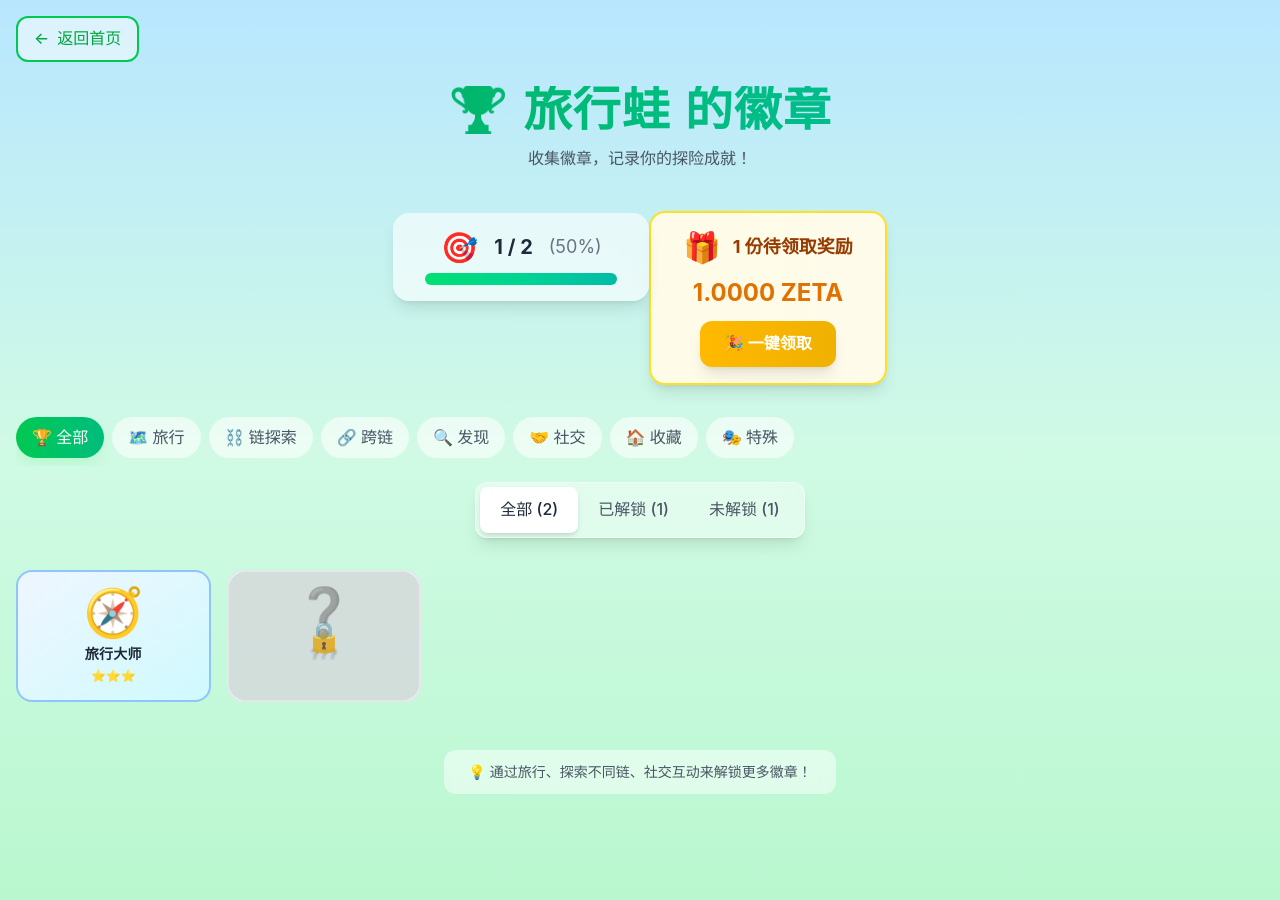
Scenario: BadgesPage › loads badges, supports filtering, and claims pending rewards
Expected: the heading "🏆 旅行蛙 的徽章" is shown, [16, 86, 1264, 134]
Expected: the heading "旅行大师" is shown, [85, 646, 142, 662]
Click the button "已解锁 (1)": coordinates (634, 510) [578, 487, 689, 533]
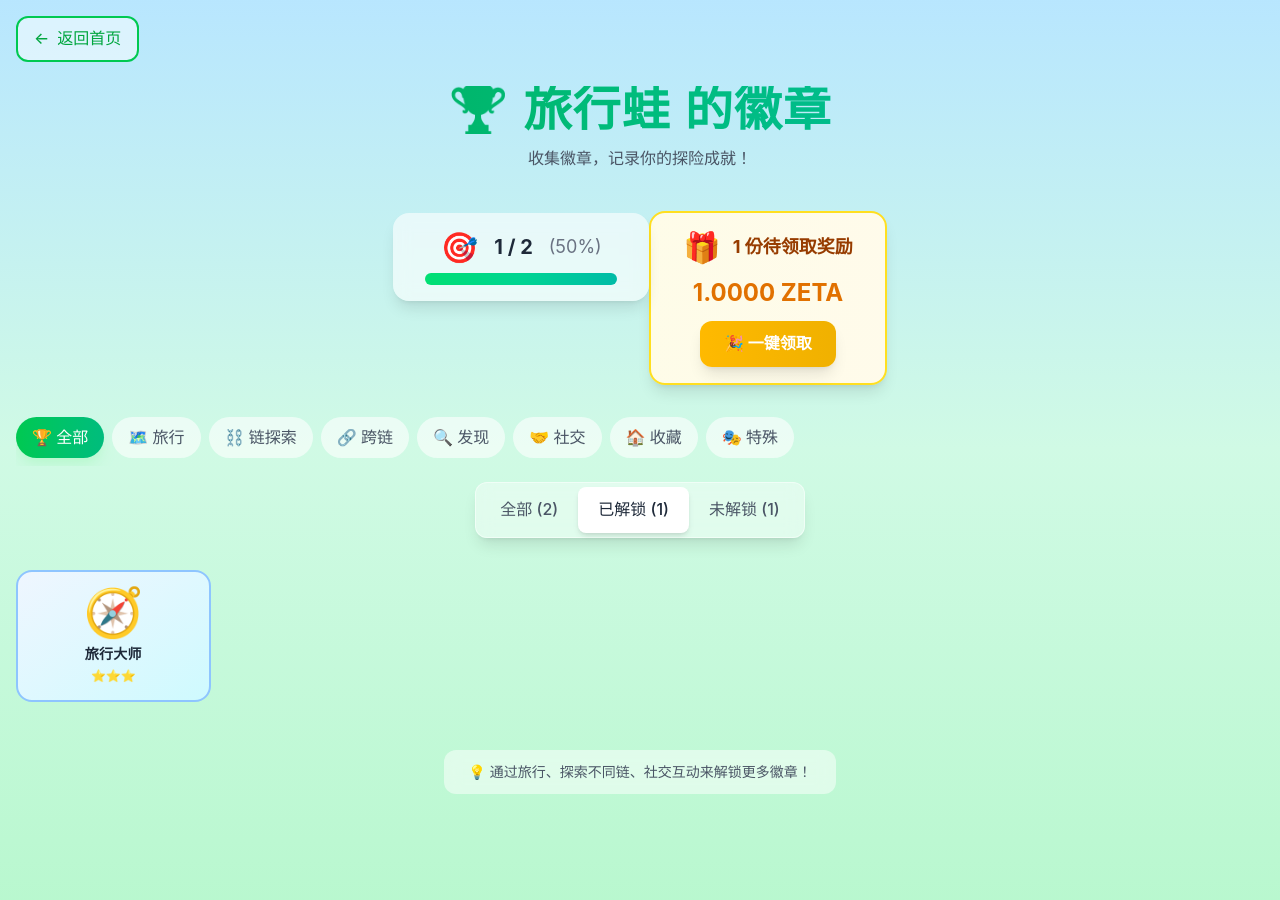
Expected: the heading "旅行大师" is shown, [85, 646, 142, 662]
Now the heading "???" is gone
Click the button "🎉 一键领取": coordinates (768, 344) [700, 321, 836, 367]
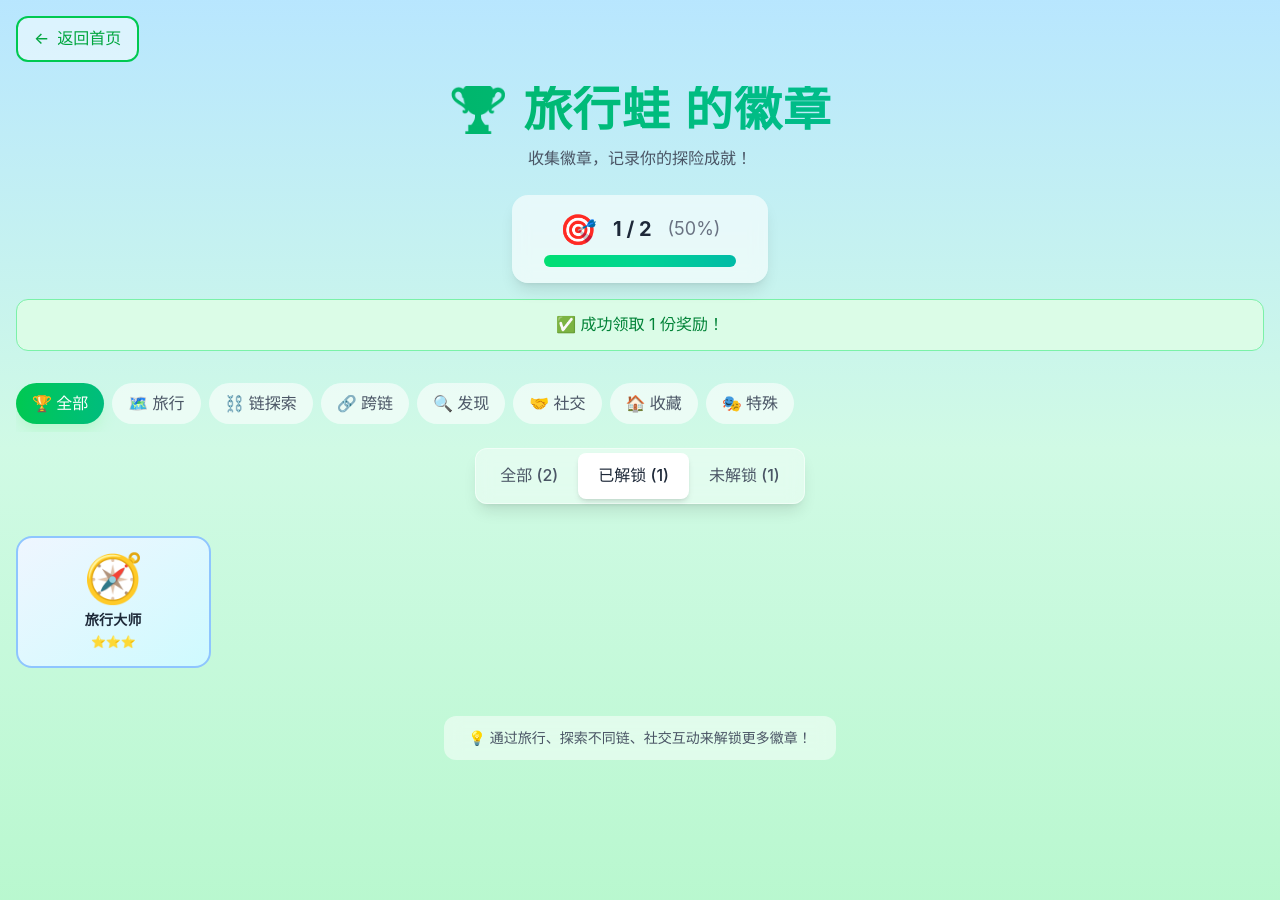
Now the text "✅ 成功领取 1 份奖励！" is shown, box [16, 299, 1264, 351]
